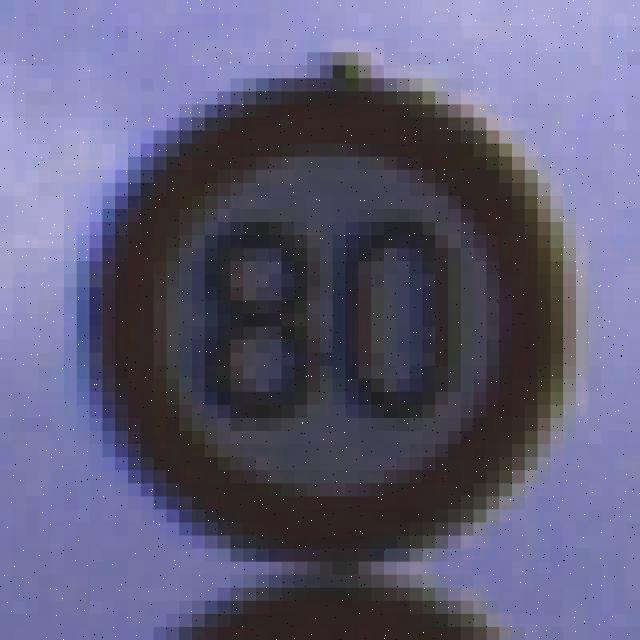Ograniczenie predkosci do 80: (103, 87, 562, 564)
